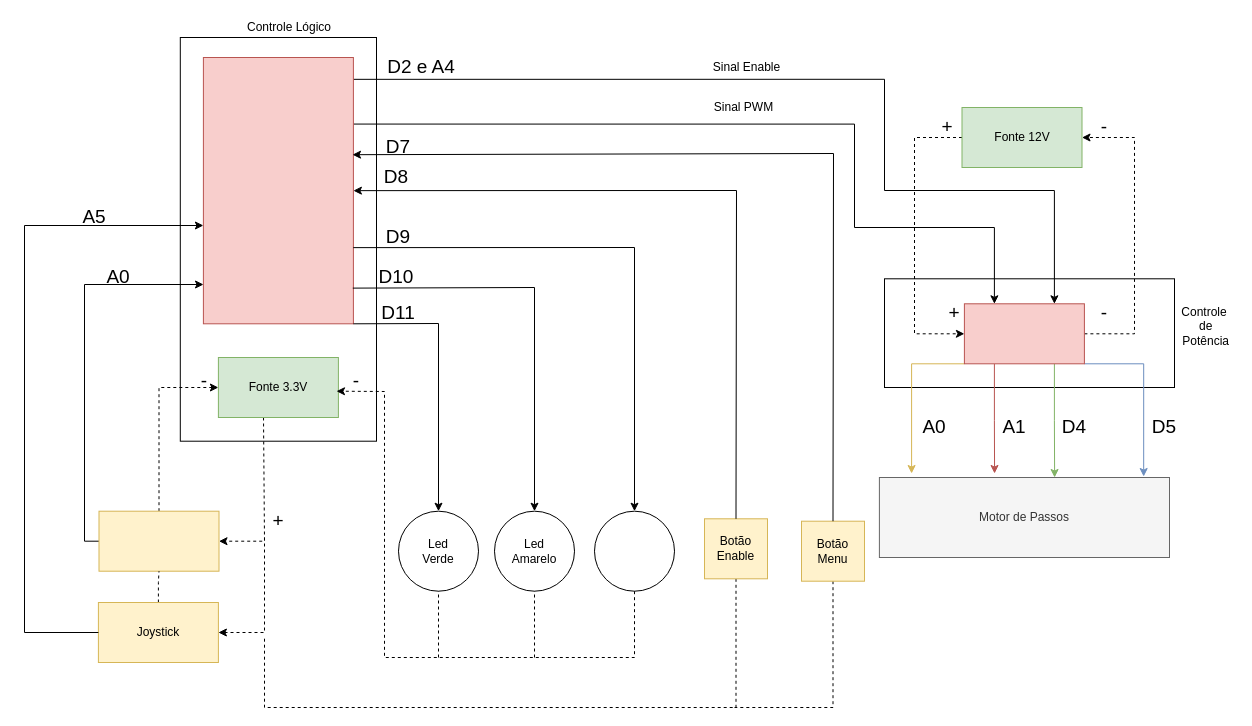
Image size: 1252x726. Some labels were removed from this diagram. Each missing label, with the centre of its shape:
IHM04A1: pixel 1023 333
Led Vermelho: pixel 634 550
Núcleo 303RB: pixel 277 190
Potenciômetro: pixel 158 540
